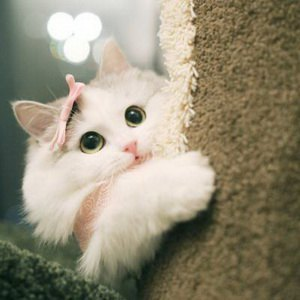cat: (14, 66, 194, 198)
